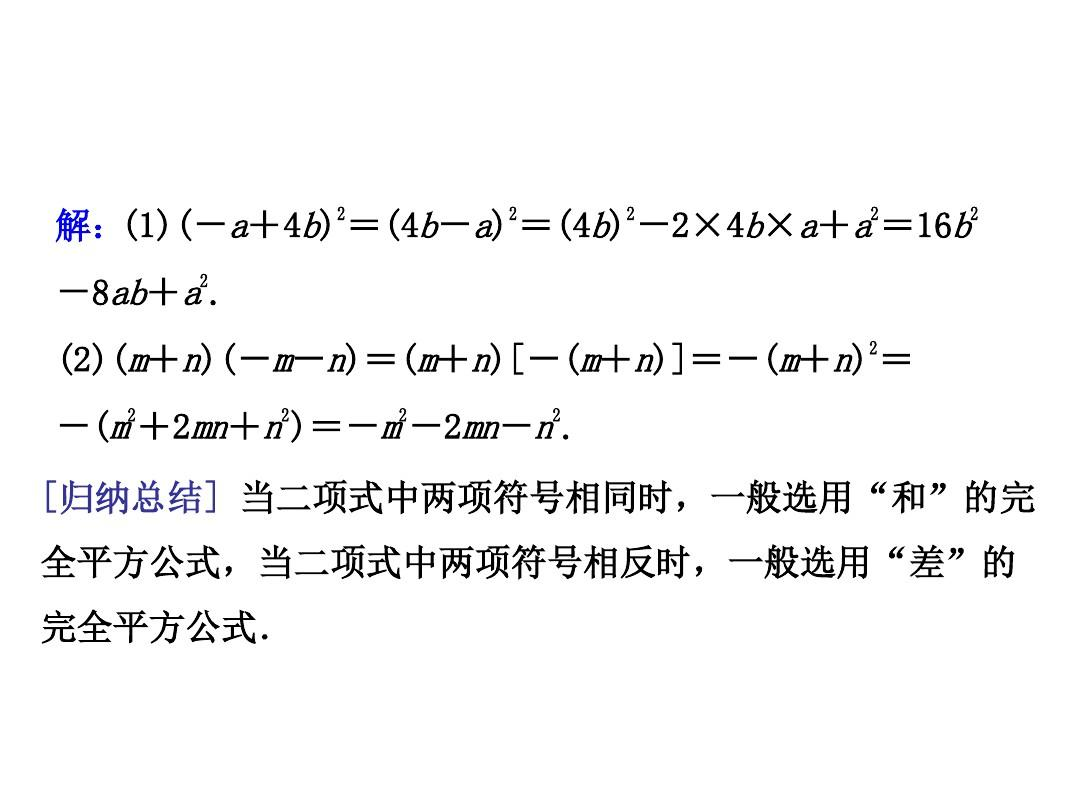square: (547, 405, 568, 426), (503, 202, 520, 226), (867, 202, 883, 225), (395, 405, 410, 427), (863, 338, 881, 355), (335, 203, 349, 221), (124, 405, 137, 424), (968, 206, 981, 224), (624, 202, 635, 223), (279, 407, 291, 424), (197, 271, 209, 288)
